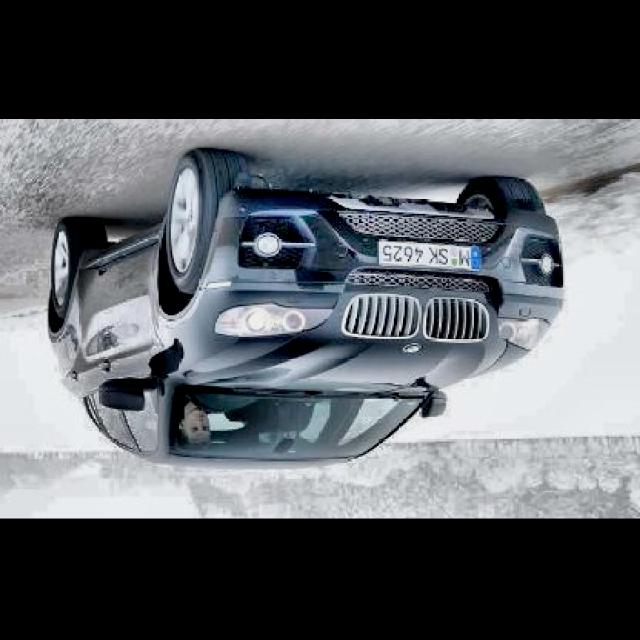black: (33, 156, 580, 472)
